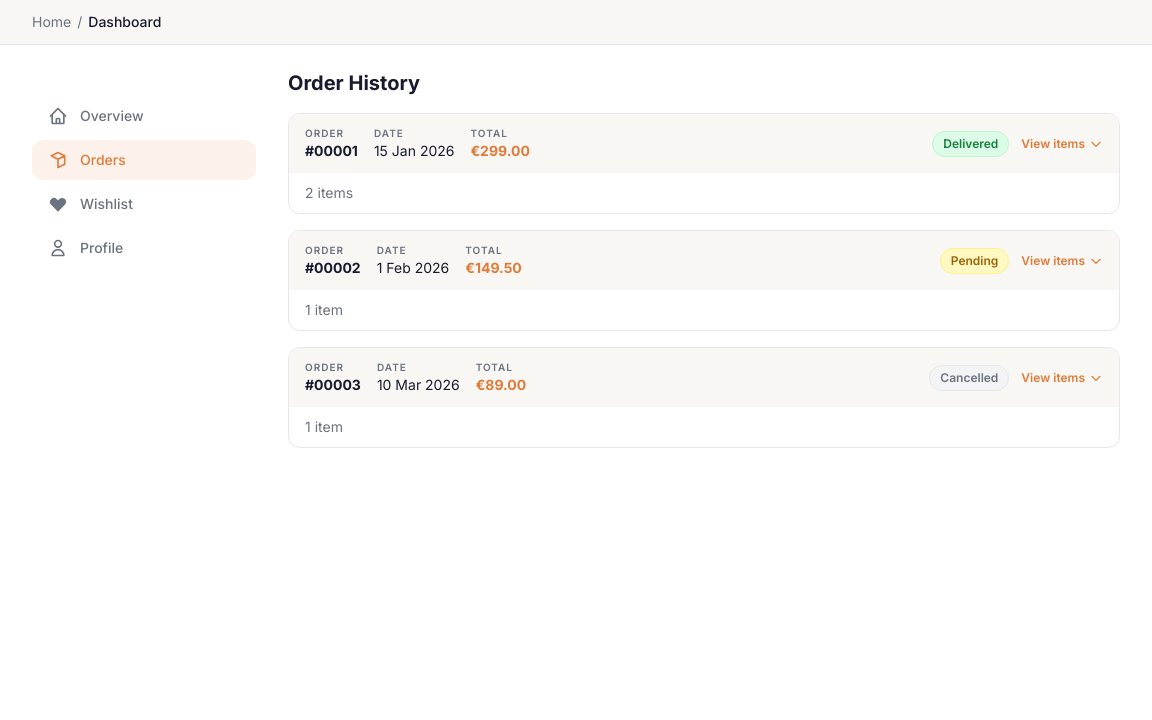
Scenario: OrdersTab — Review button › does NOT show Review button for pending orders
This screenshot has width=1152, height=720.
expect the text "#00002" is shown: met, box [305,258,361,278]
Click the button "View items" next to "pending": x=1062, y=260 [1021,252,1103,268]
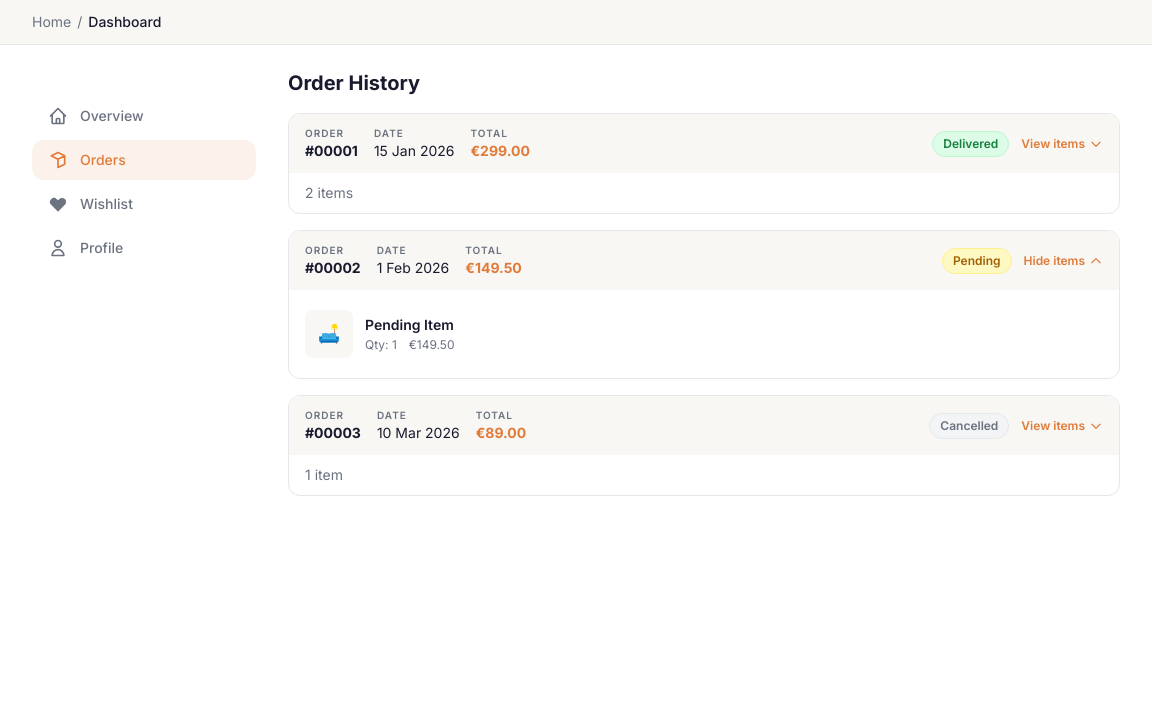
expect the text "Pending Item" is shown: met, box [365,316,454,333]
